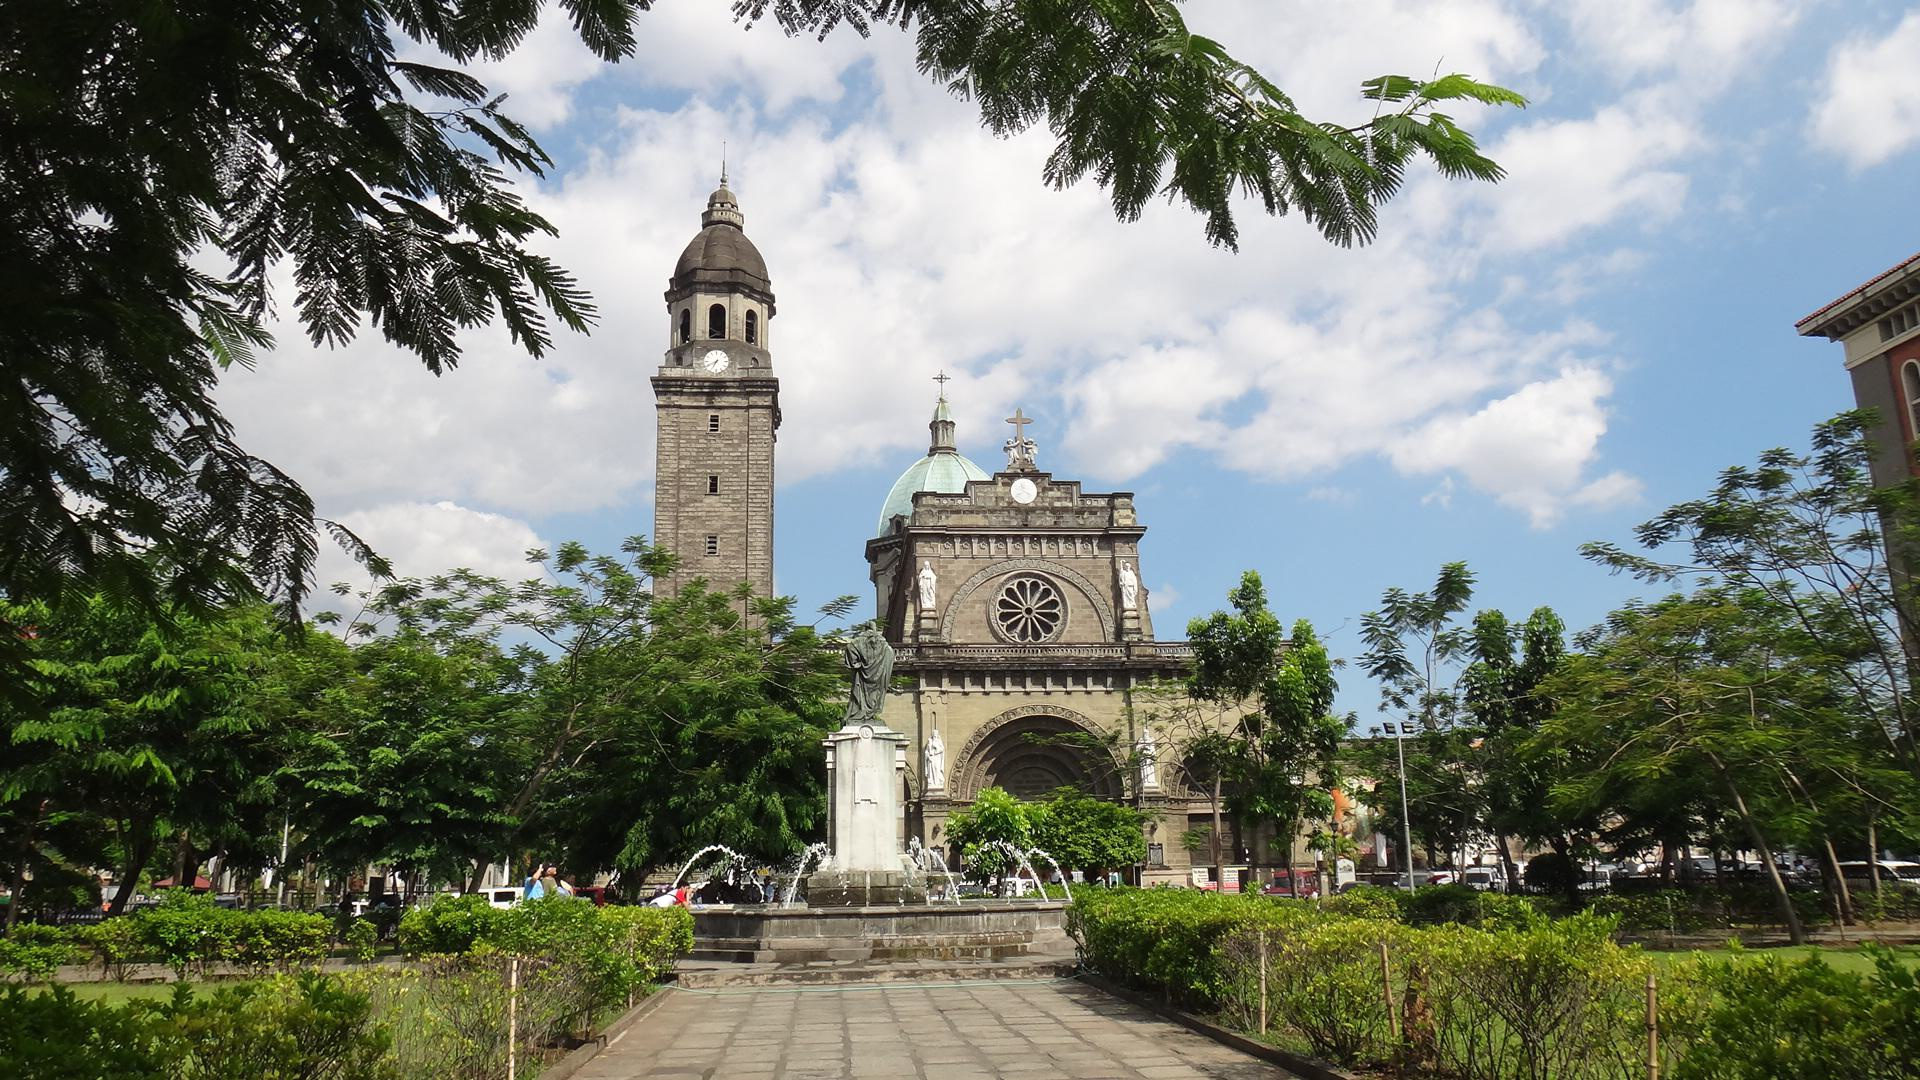manila_cathedral_church_intramuros_manila: (632, 138, 1295, 889)
